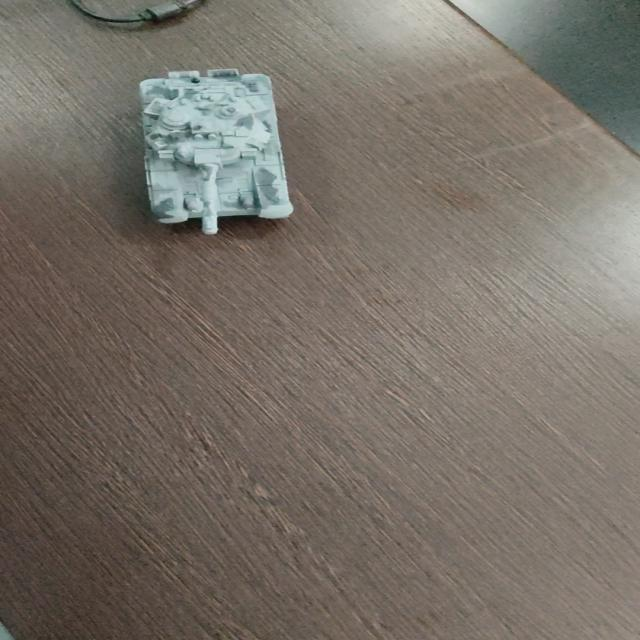tank: (128, 69, 296, 236)
